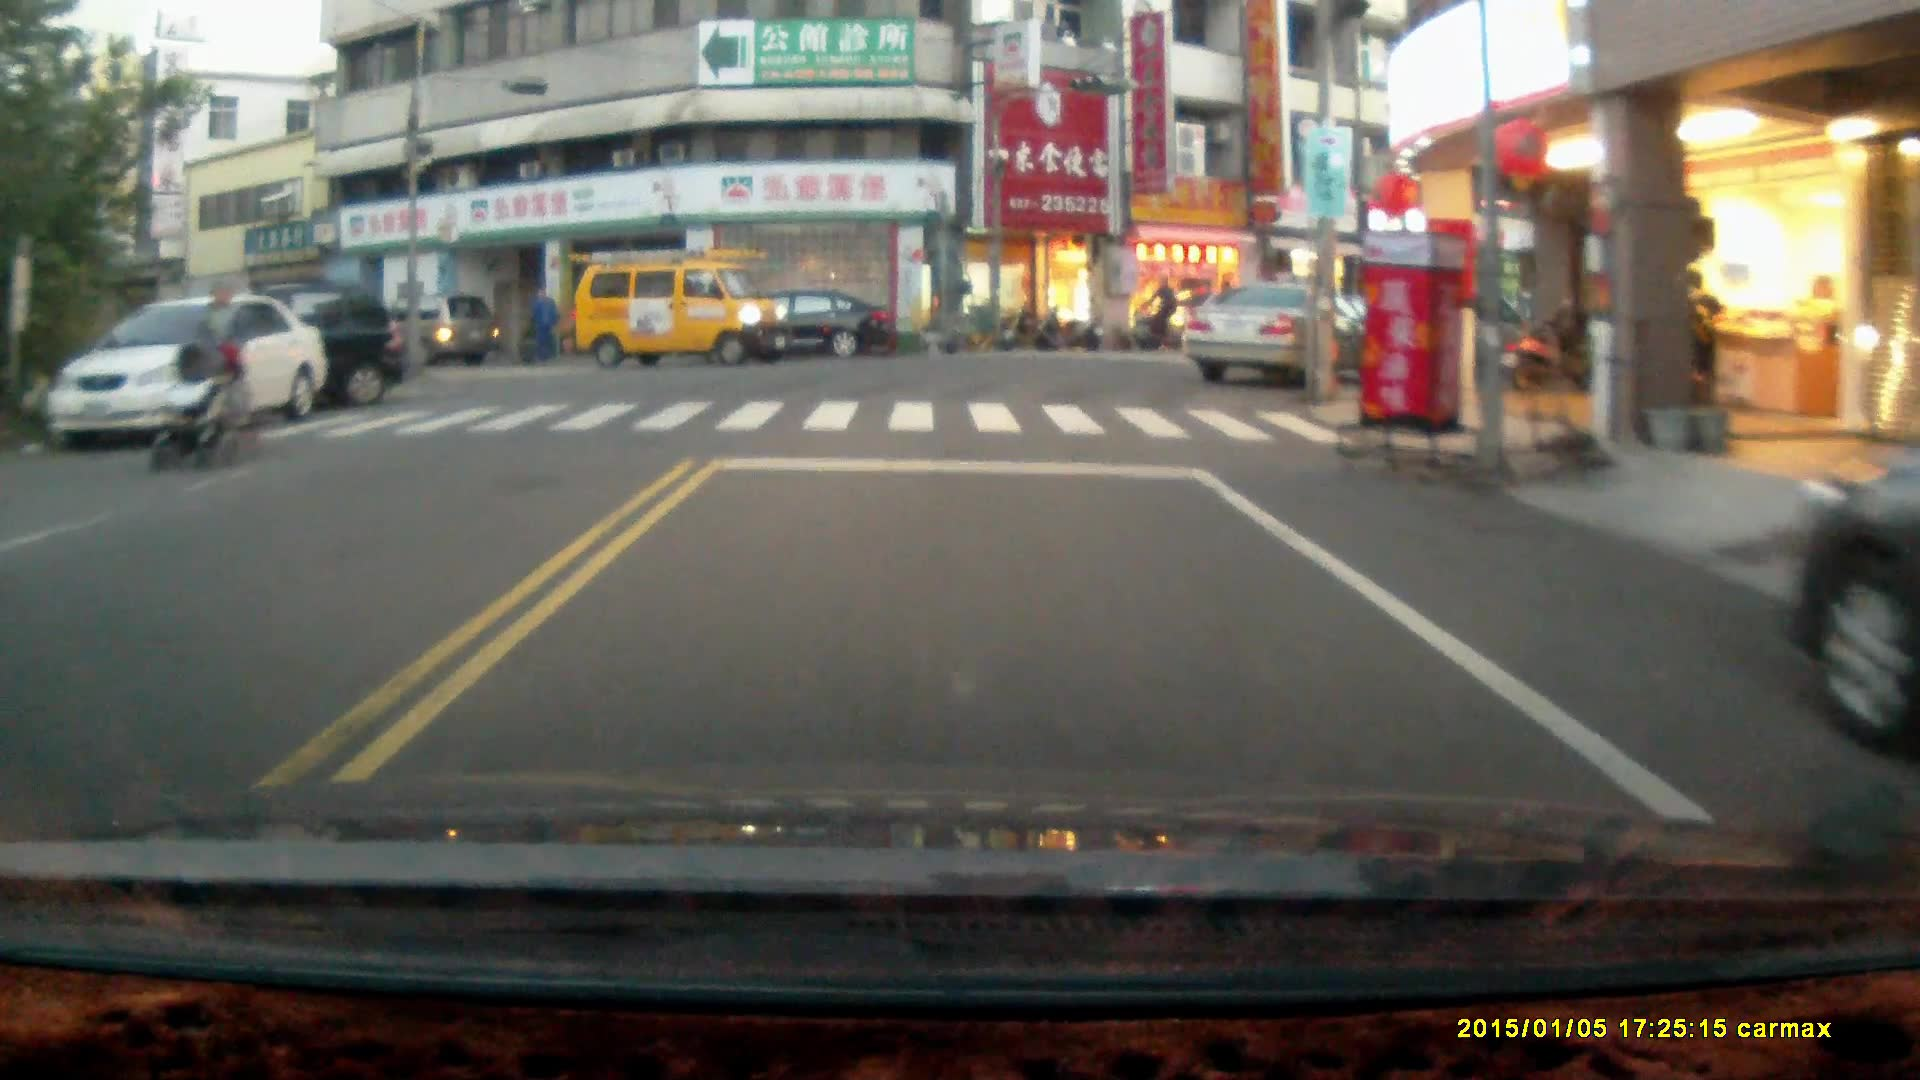pedestrian: (195, 274, 244, 437), (1685, 270, 1722, 419), (530, 284, 558, 361)
rider: (145, 330, 246, 471), (1123, 274, 1184, 356)
vehicle: (50, 293, 321, 448), (129, 276, 404, 408), (576, 245, 794, 366), (1186, 280, 1372, 390), (717, 291, 889, 365), (368, 289, 502, 372)
